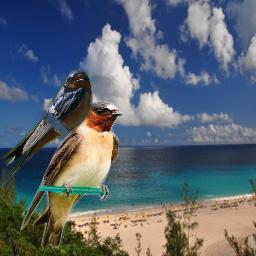Swallow: (20, 101, 124, 249), (0, 70, 93, 188)
